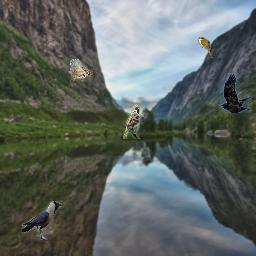Crow: (22, 201, 62, 240), (220, 73, 252, 113)
Cuckoo: (198, 37, 213, 58)
Sparrow: (70, 59, 93, 85), (123, 104, 140, 139)
